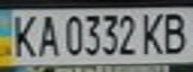0: (60, 11, 84, 57)
2: (118, 11, 142, 57)
3: (81, 11, 103, 57), (100, 11, 121, 57)
A: (33, 11, 60, 58)
B: (157, 9, 193, 55)
K: (3, 11, 42, 60), (139, 9, 169, 56)
